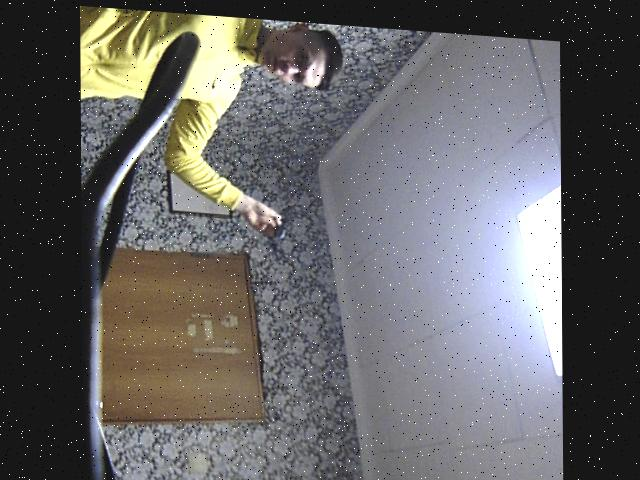drone: (263, 190, 295, 262)
